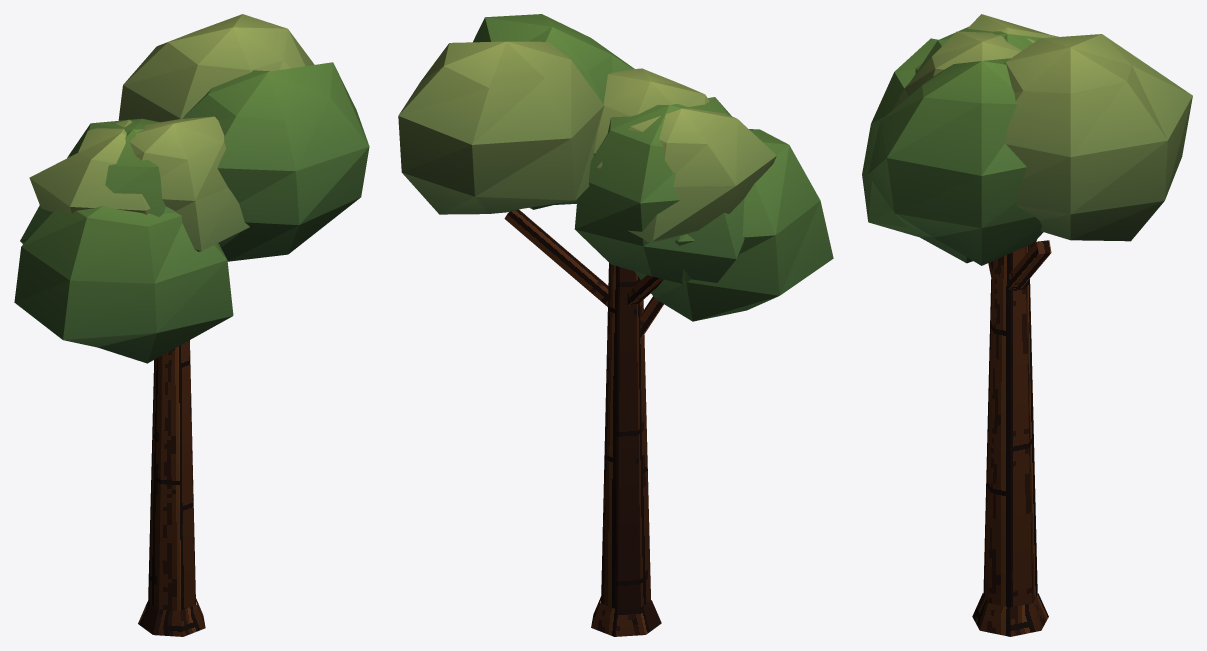
Rendered from birch_3_lowpoly.glb.
3 renders of one model, left to right at view 1: azimuth 30°, elevation 25°; view 2: azimuth 150°, elevation 25°; view 3: azimuth 270°, elevation 25°, orthographic. The views are drawn at different scales.
Parts seen in each view (by area): view 1: birch_3_lowpoly; view 2: birch_3_lowpoly; view 3: birch_3_lowpoly.
Part boxes in pixels (box(x1,y1,x2,y2)): birch_3_lowpoly: box(14, 14, 369, 636); birch_3_lowpoly: box(398, 14, 833, 636); birch_3_lowpoly: box(862, 14, 1192, 636).
Bounding box in the file's own units: 3.88 × 6.26 × 3.03.
2 materials, 1 textured.
